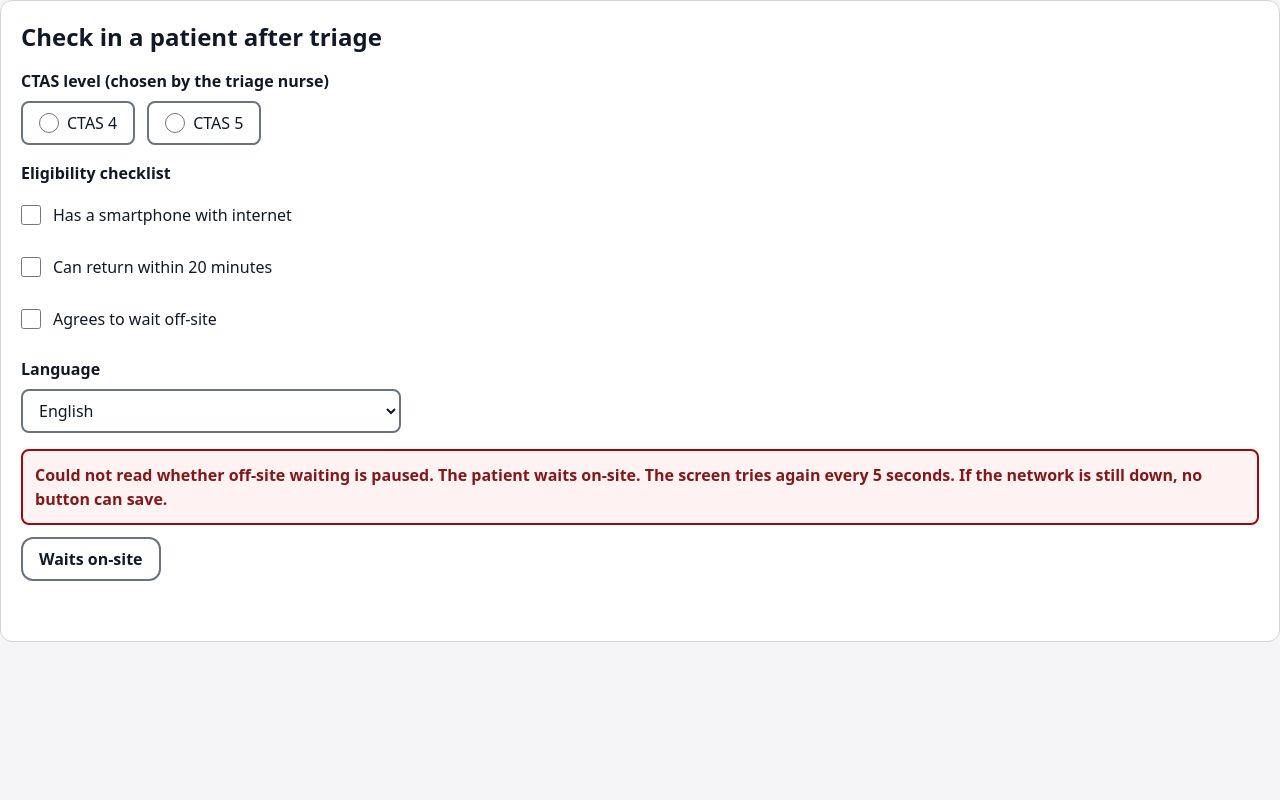
Test: CheckInPanel on Enter while only on-site waiting is offered › saves nothing and says so first while the pause switch could not be read
The width and height of the screenshot is (1280, 800).
Click the radio button labelled "CTAS 4" at (49,123), box x1=39 y1=113 x2=59 y2=133
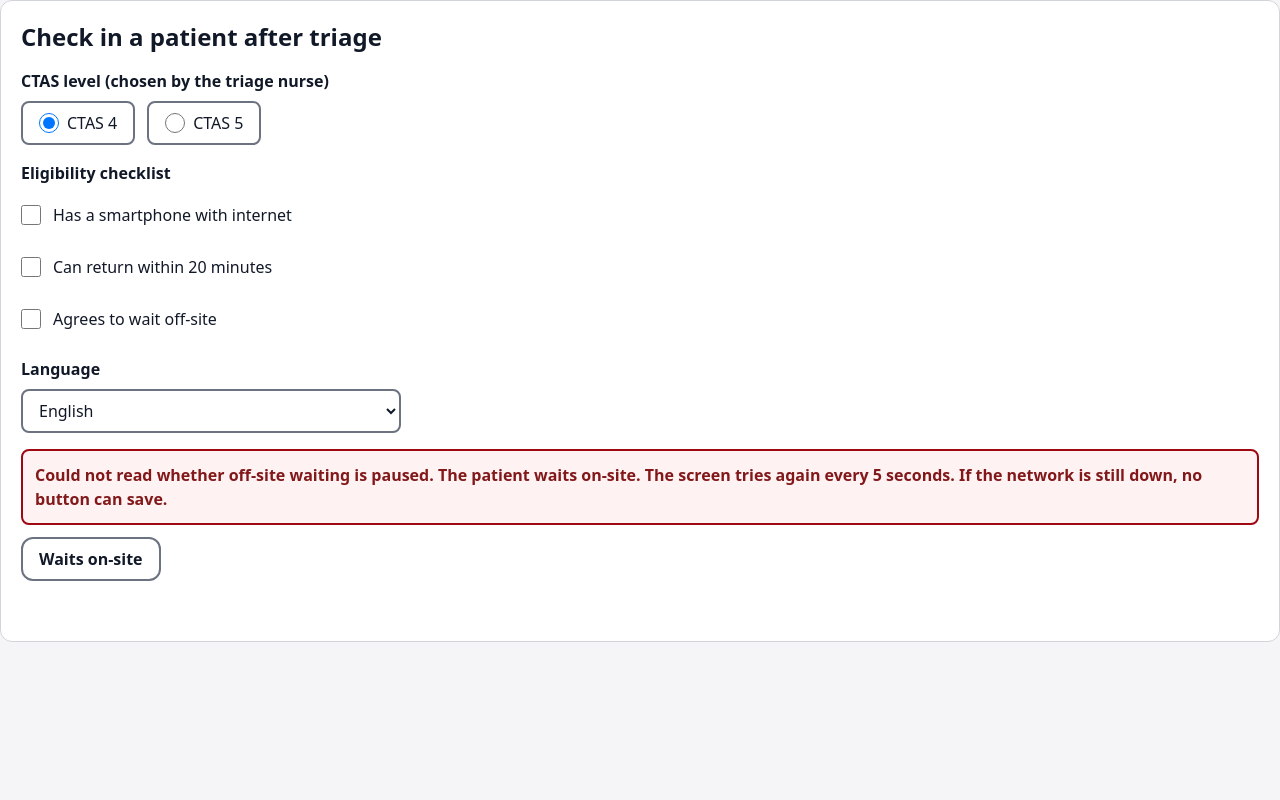
Click the checkbox labelled "Has a smartphone with internet" at (31,215), box x1=21 y1=205 x2=41 y2=225
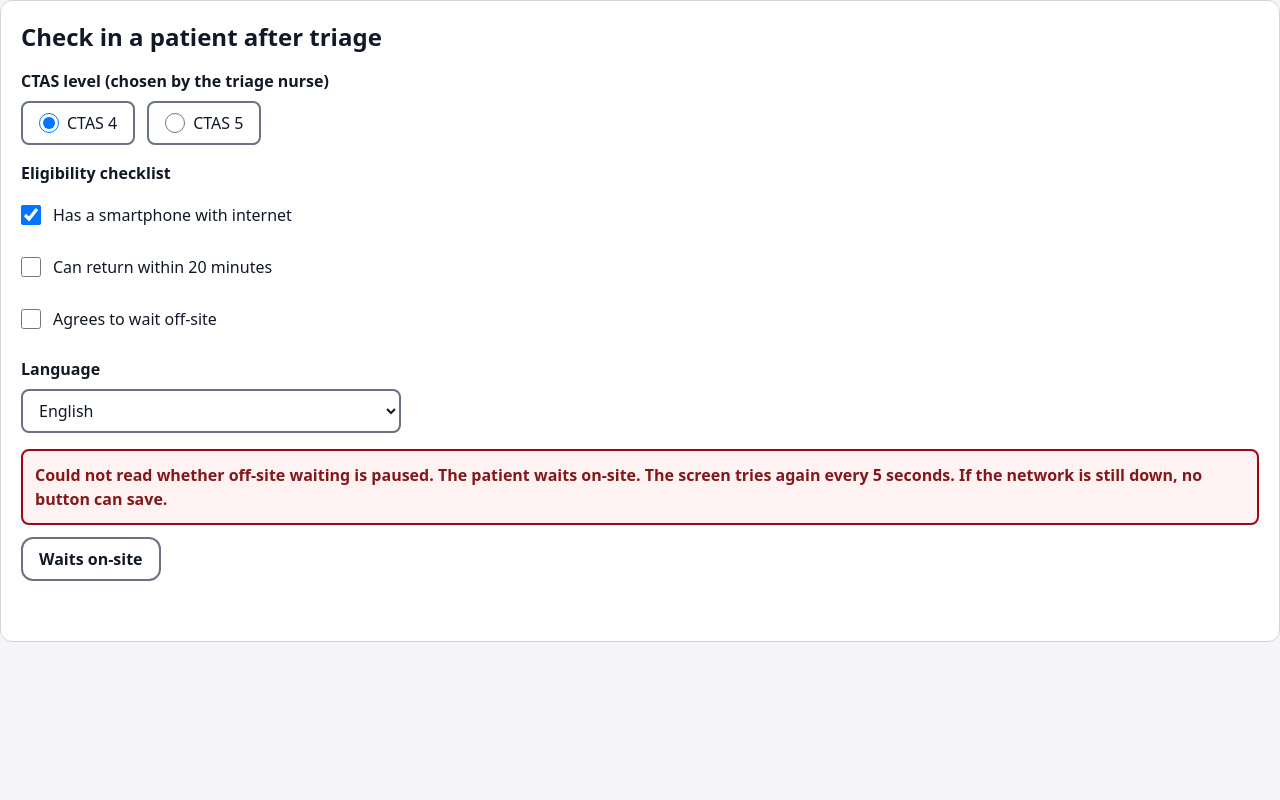
Click the checkbox labelled "Can return within 20 minutes" at (31,267), box x1=21 y1=257 x2=41 y2=277
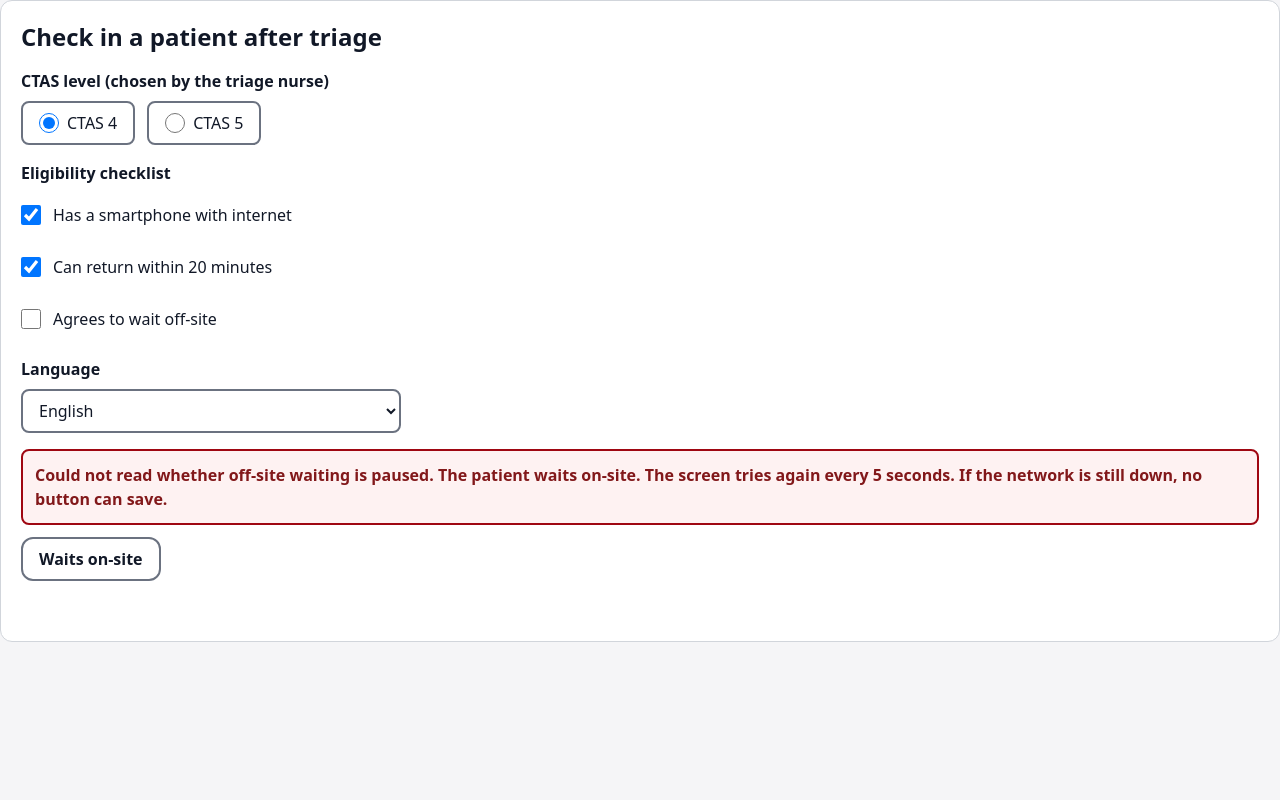
Click the checkbox labelled "Agrees to wait off-site" at (31,319), box x1=21 y1=309 x2=41 y2=329
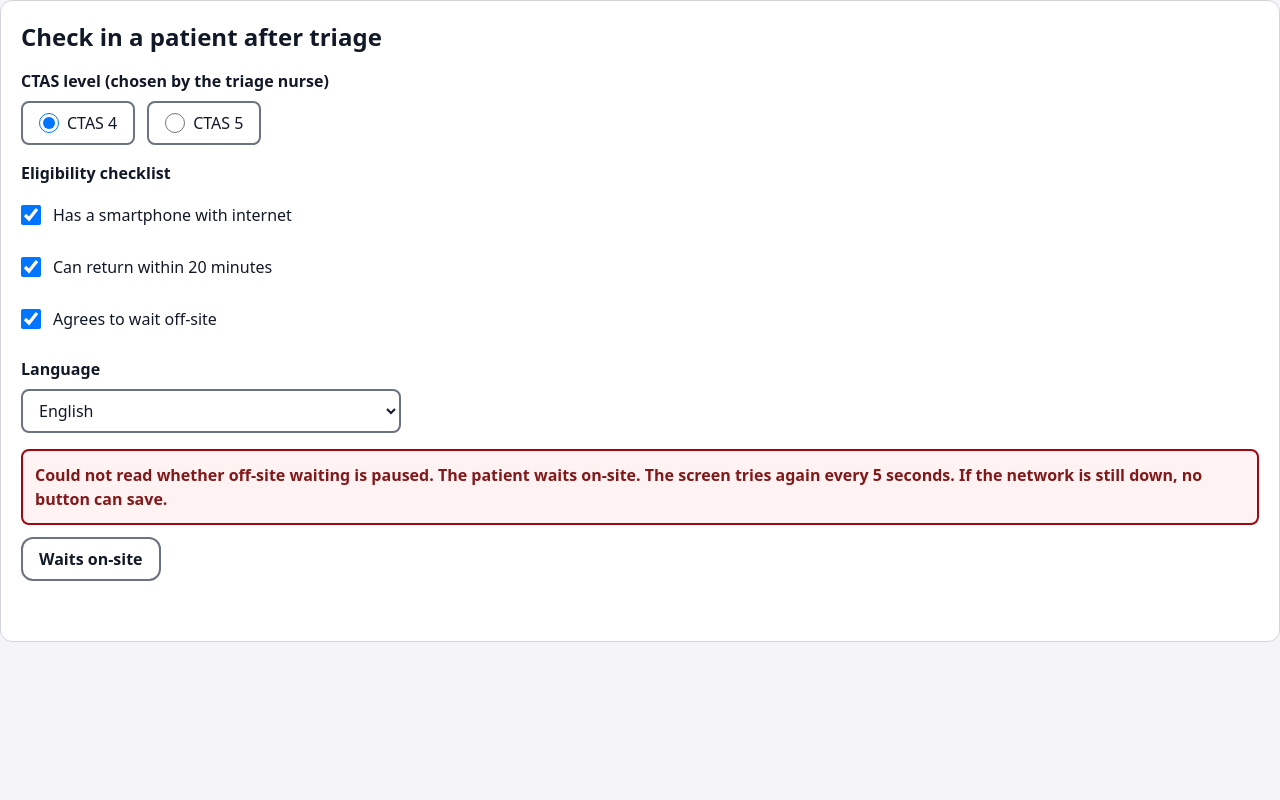
Submit the form
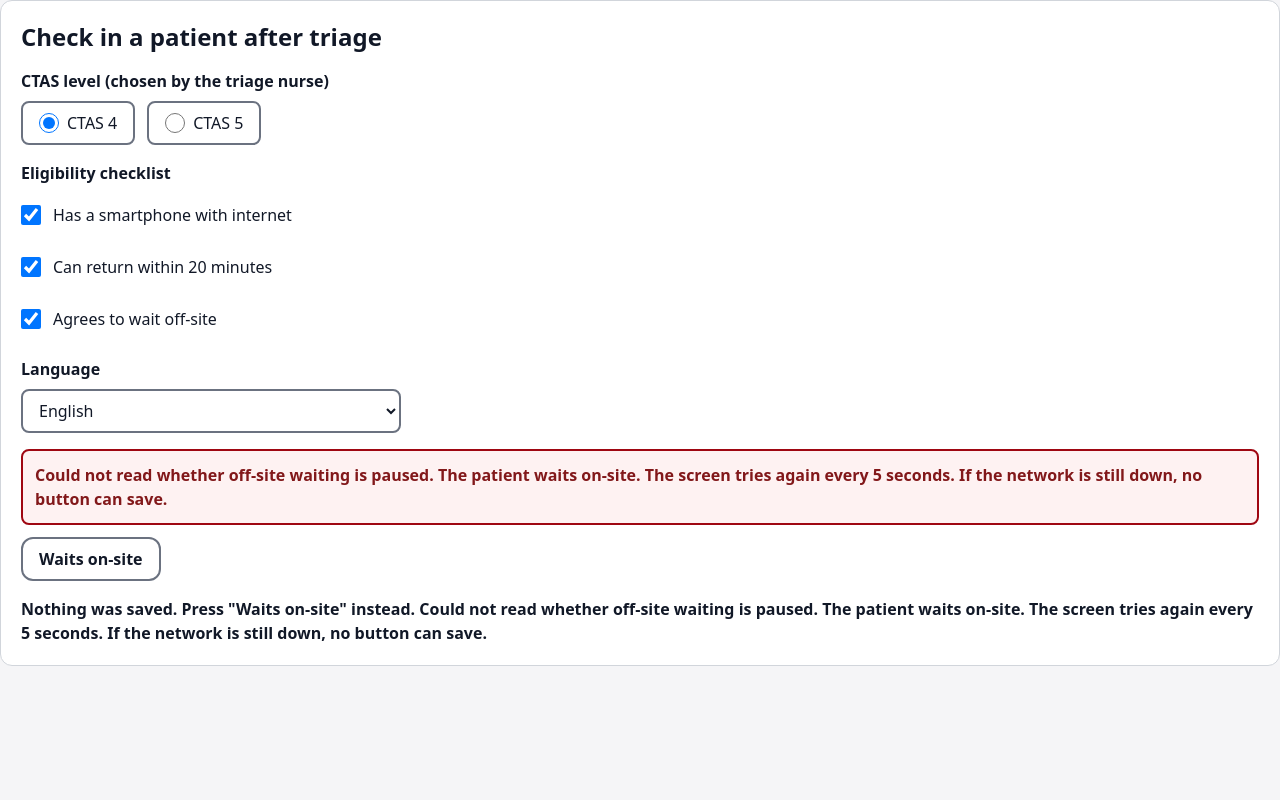
Now the message shows "If the network is still down, no button can save.", box x1=21 y1=598 x2=1253 y2=644
